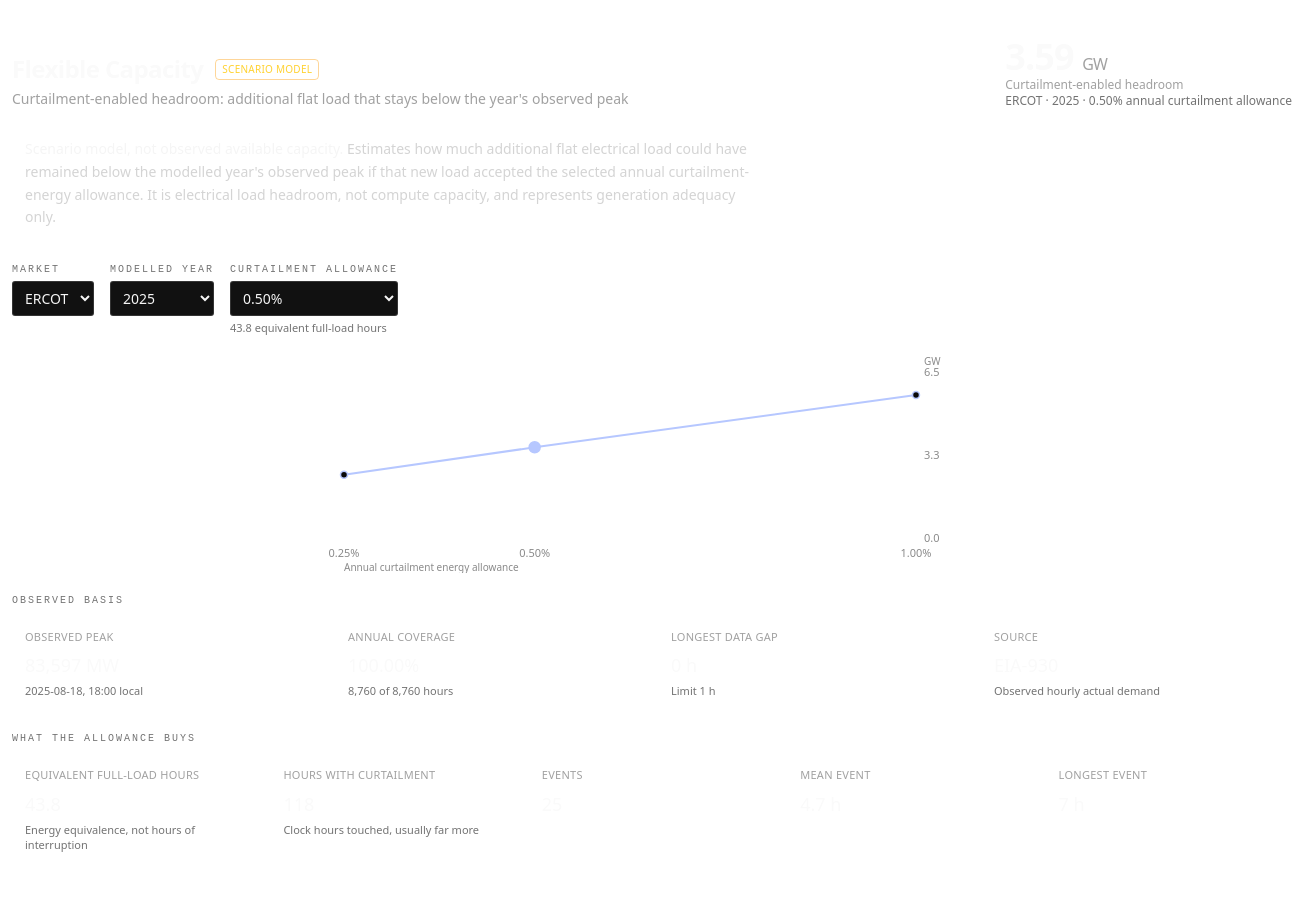
Test case: 4. selection › switches market and resets the year to that market's latest eligible one
Select "PJM" in the dropdown labelled "Market" at [53, 298], box left=12, top=281, right=94, bottom=316
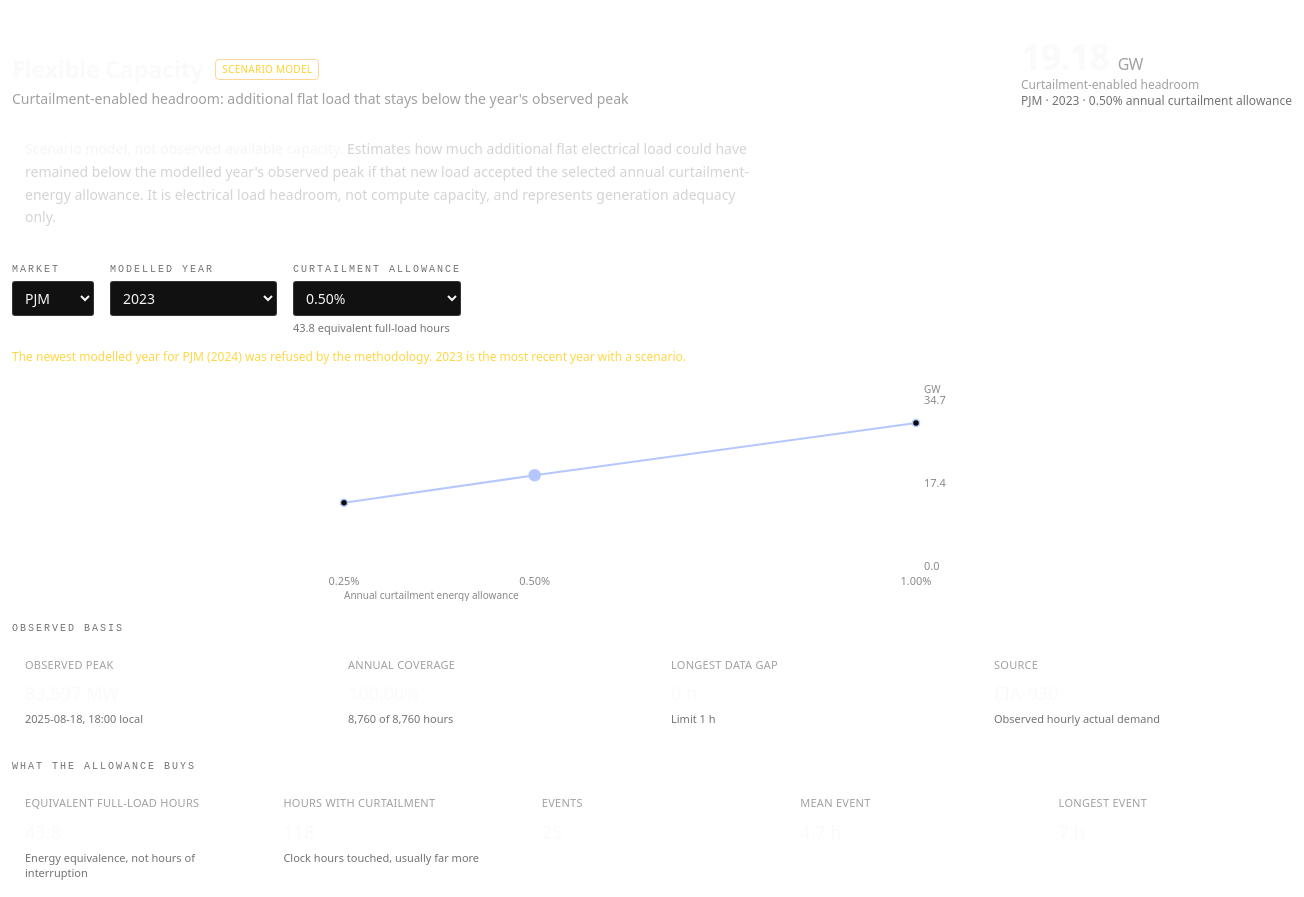
Expected: the dropdown labelled "Modelled year" shows "2023", left=110, top=281, right=277, bottom=316
Expected: the text "PJM · 2023 · 0.50% annual curtailment allowance" is shown, left=1021, top=93, right=1292, bottom=109
